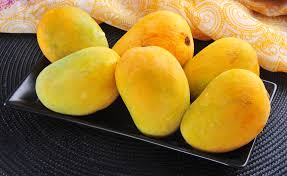mango: (181, 69, 276, 154), (116, 46, 191, 137), (35, 48, 118, 116), (120, 10, 200, 68), (33, 3, 111, 58)
